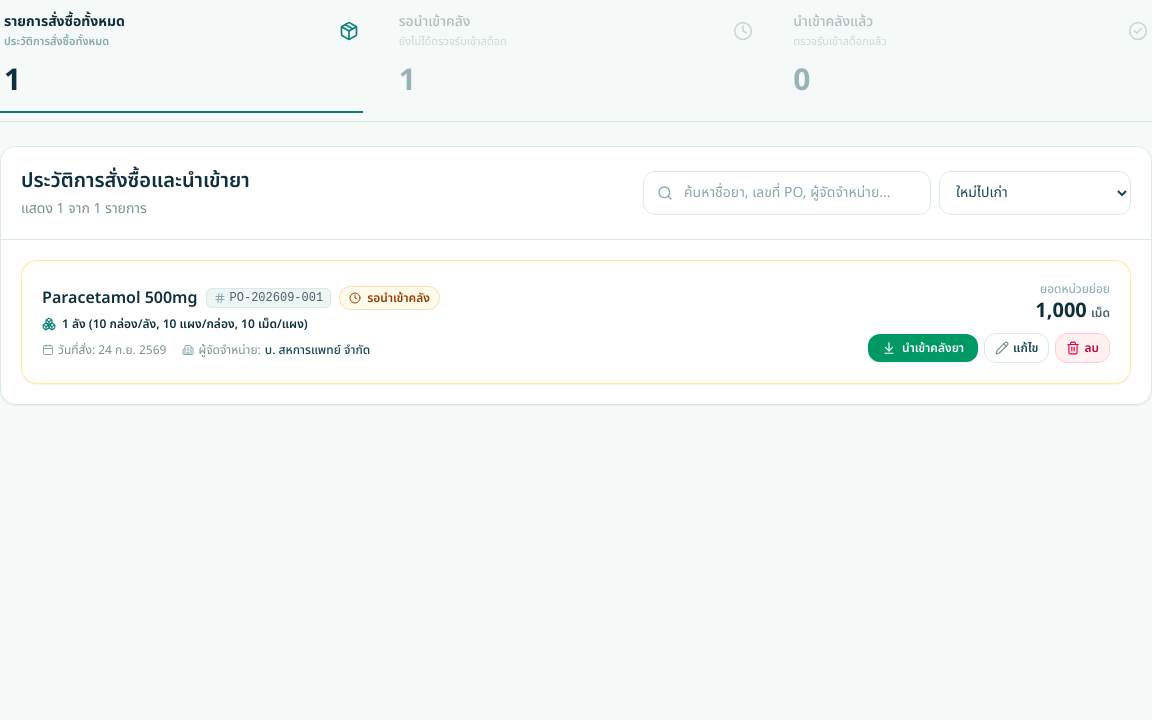
Scenario: ProcurementsTab & Stock-in Workflow › opens import modal with prefilled existing medication details when clicking "นำเข้าคลังยา"
Click the button "นำเข้าคลังยา": {"x": 923, "y": 348} [868, 334, 978, 362]
(page scrolled)
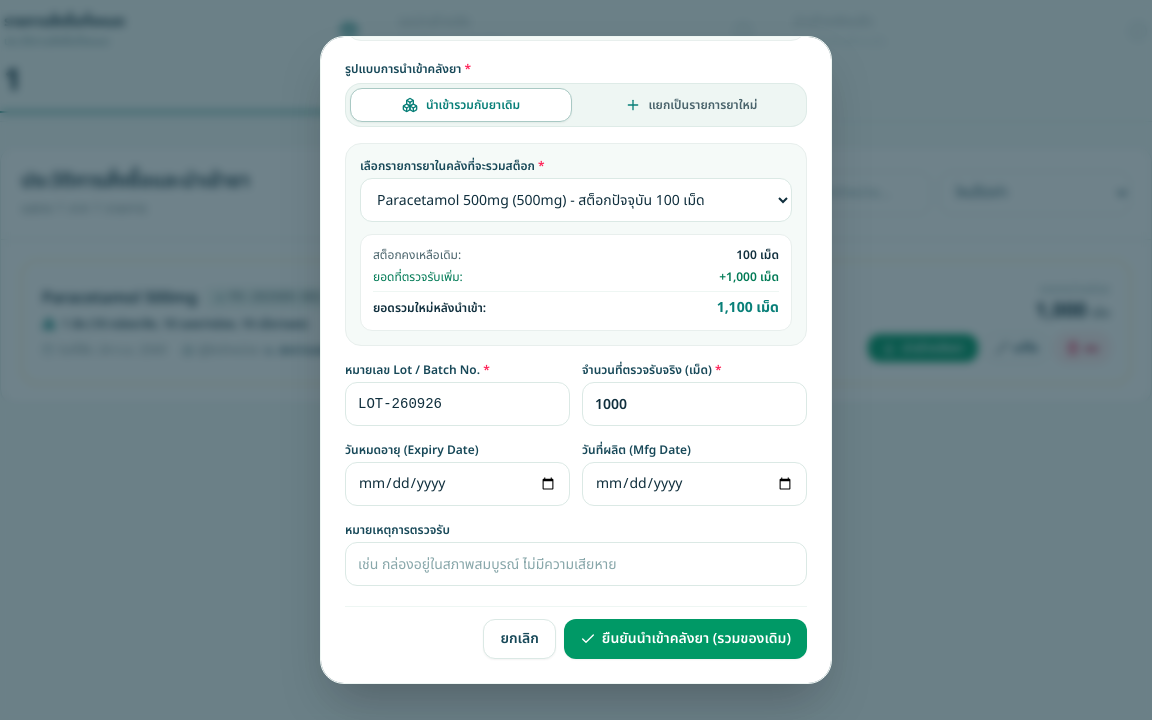
Expected: the button "ยืนยันนำเข้าคลังยา (รวมของเดิม)" is shown, [564, 619, 807, 659]
